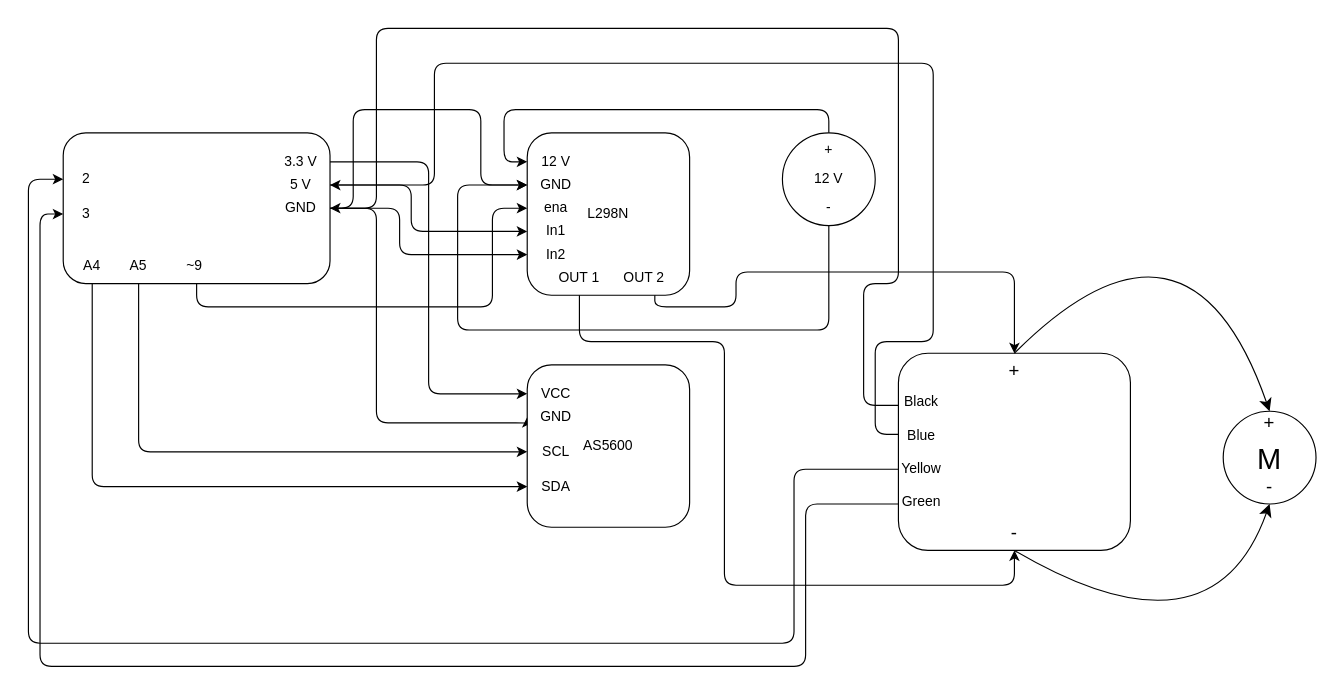
Some shapes in this 1336 by 696 pixel diagram are drawn without their labels. The shapes that lost their labels are listed below. From the top down, each one's box as (x1, y1, x2, y2) in pixels, then its label:
(62, 132, 330, 284): Arduino IDE
(897, 352, 1130, 550): Encoder Motor
